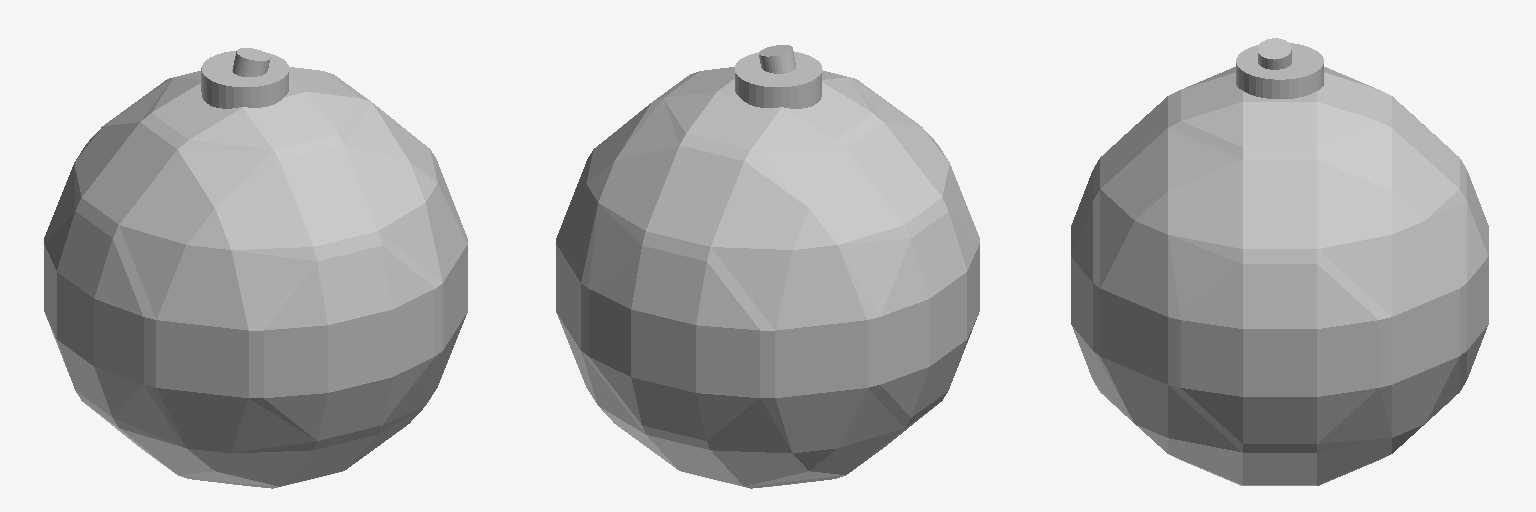
Rendered from bomb_body.obj.
3 views of the same model, side by side, from view 1: azimuth 30°, elevation 25°; view 2: azimuth 150°, elevation 25°; view 3: azimuth 270°, elevation 25° (orthographic).
Parts seen in each view (by area): view 1: Mball_Mball.003, Cylinder, Cylinder.Small_Cylinder.001; view 2: Mball_Mball.003, Cylinder, Cylinder.Small_Cylinder.001; view 3: Mball_Mball.003, Cylinder, Cylinder.Small_Cylinder.001.
Boxes of the visible parts, x1,y1,x2,y2 form: Mball_Mball.003: [44, 67, 467, 488]; Cylinder: [201, 51, 288, 108]; Cylinder.Small_Cylinder.001: [232, 48, 270, 76]; Mball_Mball.003: [556, 67, 979, 488]; Cylinder: [735, 52, 821, 108]; Cylinder.Small_Cylinder.001: [759, 45, 795, 73]; Mball_Mball.003: [1071, 67, 1488, 485]; Cylinder: [1236, 43, 1323, 98]; Cylinder.Small_Cylinder.001: [1258, 38, 1291, 69].
Bounding box in the file's own units: 2.23 × 2.45 × 2.23.